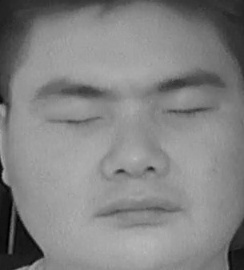blink: (48, 103, 100, 139), (166, 95, 214, 129)
mouth: (89, 185, 185, 237)
